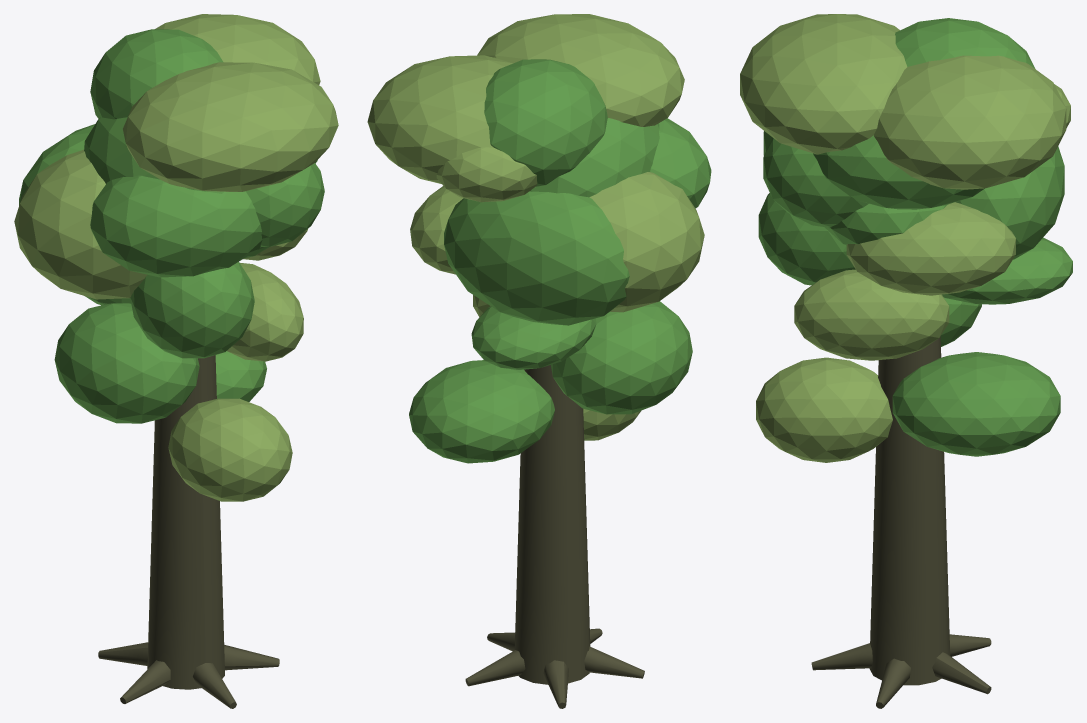
File: moss-column.glb
3 renders of one model, left to right at view 1: azimuth 30°, elevation 25°; view 2: azimuth 150°, elevation 25°; view 3: azimuth 270°, elevation 25°, orthographic. The views are drawn at different scales.
Visible parts, largest first — view 1: crown-0, trunk, crown-8, foliage-2, crown-6, foliage-0, foliage-5, crown-4, crown-3, foliage-3, foliage-8, crown-7 (+7 smaller); view 2: crown-5, trunk, crown-0, crown-3, foliage-1, crown-4, foliage-2, crown-6, foliage-4, crown-7, foliage-9, crown-8 (+5 smaller); view 3: crown-3, trunk, crown-0, foliage-1, foliage-0, foliage-6, foliage-3, crown-2, crown-5, foliage-8, foliage-5, crown-4 (+7 smaller).
Boxes of the visible parts, bbox=[...] form: crown-0: bbox=[123, 62, 338, 191]; trunk: bbox=[147, 355, 224, 689]; crown-8: bbox=[90, 175, 262, 277]; foliage-2: bbox=[54, 303, 199, 423]; crown-6: bbox=[14, 149, 147, 299]; foliage-0: bbox=[168, 398, 292, 501]; foliage-5: bbox=[130, 262, 254, 358]; crown-4: bbox=[90, 29, 223, 119]; crown-3: bbox=[155, 14, 320, 84]; foliage-3: bbox=[227, 263, 303, 361]; foliage-8: bbox=[246, 163, 324, 247]; crown-7: bbox=[84, 117, 223, 193]; crown-5: bbox=[444, 191, 629, 325]; trunk: bbox=[514, 365, 590, 684]; crown-0: bbox=[477, 14, 684, 126]; crown-3: bbox=[367, 55, 512, 183]; foliage-1: bbox=[409, 360, 554, 463]; crown-4: bbox=[484, 59, 607, 186]; foliage-2: bbox=[551, 301, 692, 414]; crown-6: bbox=[589, 172, 704, 312]; foliage-4: bbox=[471, 306, 596, 369]; crown-7: bbox=[530, 118, 659, 197]; foliage-9: bbox=[436, 147, 537, 202]; crown-8: bbox=[650, 118, 711, 208]; crown-3: bbox=[874, 55, 1066, 189]; trunk: bbox=[869, 336, 950, 685]; crown-0: bbox=[740, 14, 907, 154]; foliage-1: bbox=[892, 352, 1060, 456]; foliage-0: bbox=[756, 357, 892, 462]; foliage-6: bbox=[846, 202, 1015, 295]; foliage-3: bbox=[794, 269, 949, 360]; crown-2: bbox=[813, 135, 984, 209]; crown-5: bbox=[956, 146, 1064, 259]; foliage-8: bbox=[763, 137, 868, 227]; foliage-5: bbox=[758, 193, 855, 285]; crown-4: bbox=[895, 18, 1035, 68].
Size of the model in its own units: 2.92 by 5.86 by 2.75.
